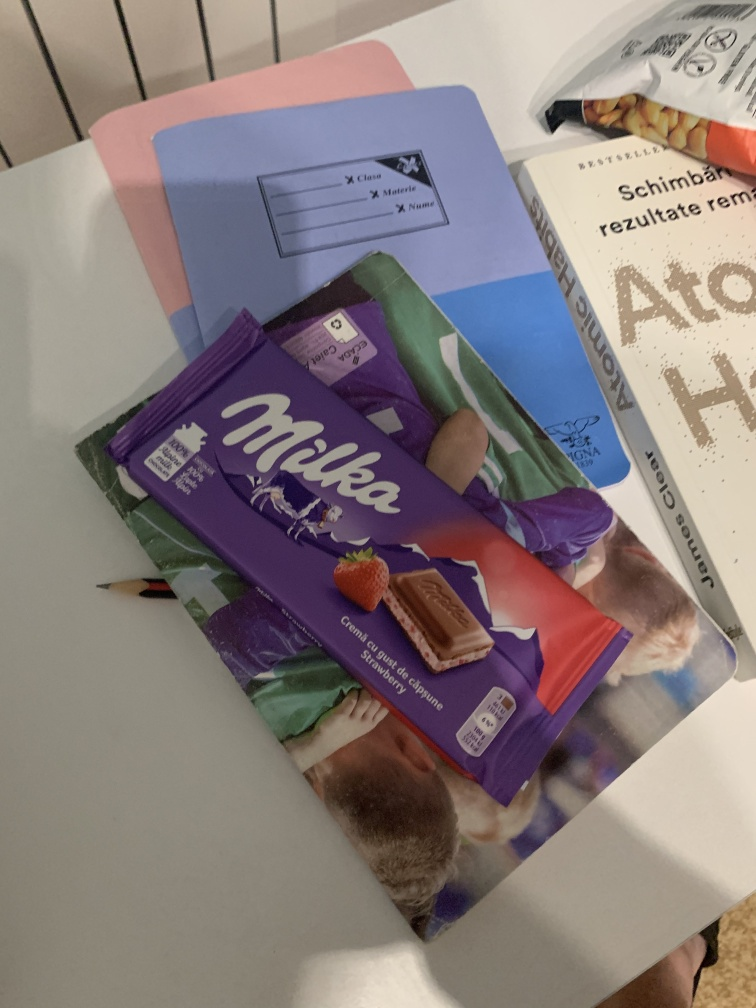milka: (99, 306, 639, 816)
